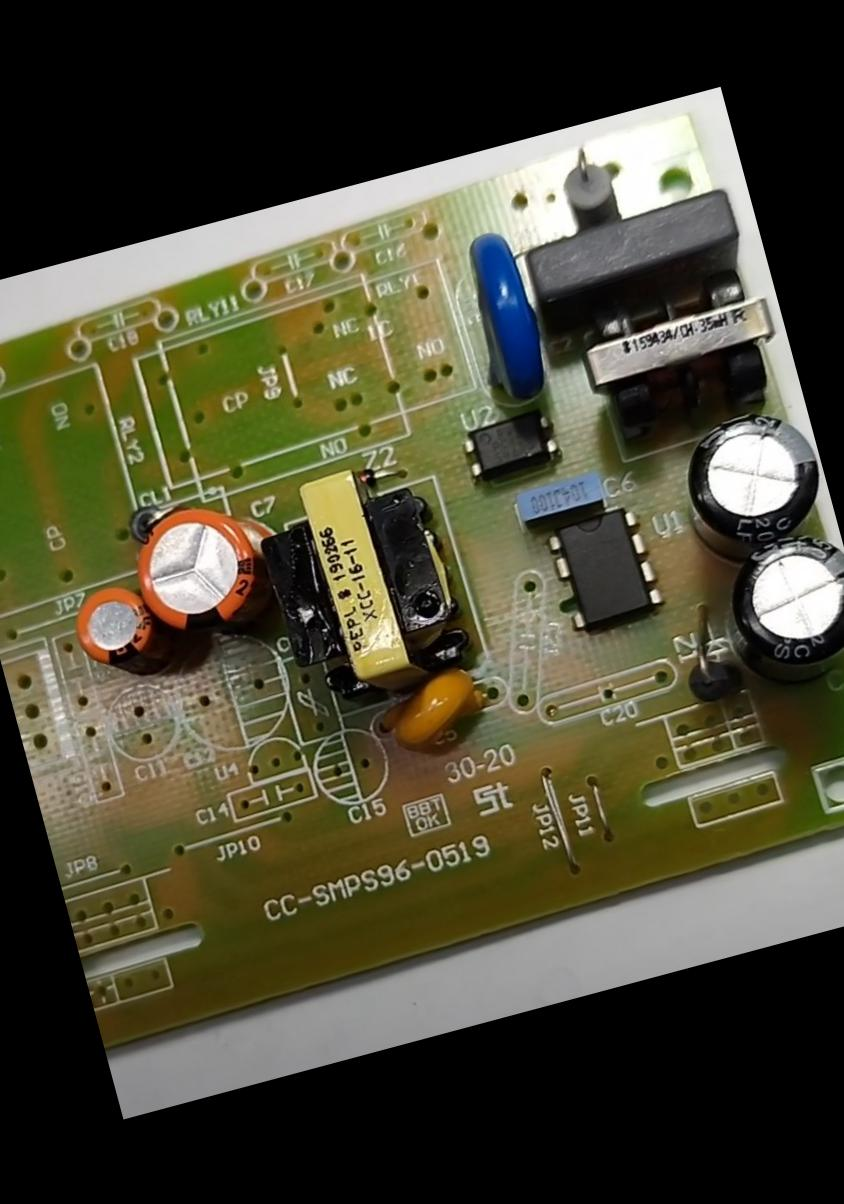Cap1: (120, 493, 270, 645)
Cap2: (66, 576, 160, 676)
Cap3: (670, 398, 836, 556)
Cap4: (709, 522, 843, 686)
MOSFET: (542, 502, 667, 638)
Mov: (452, 223, 555, 405)
Resistor: (550, 140, 625, 238)
Transformer: (244, 449, 476, 711), (573, 265, 790, 441)
